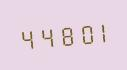eight: (54, 20, 71, 49)
four: (18, 24, 35, 52), (36, 22, 53, 50)
one: (90, 17, 107, 46)
zero: (72, 19, 89, 47)
